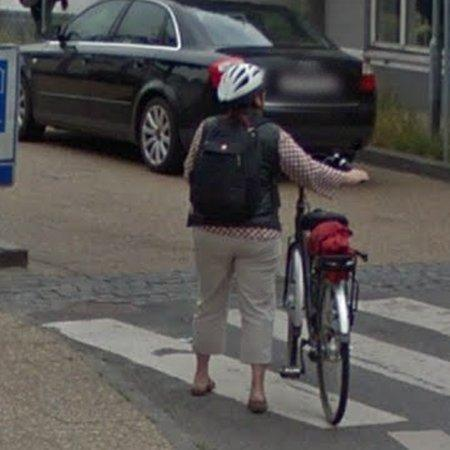bicycles: (282, 189, 368, 426)
